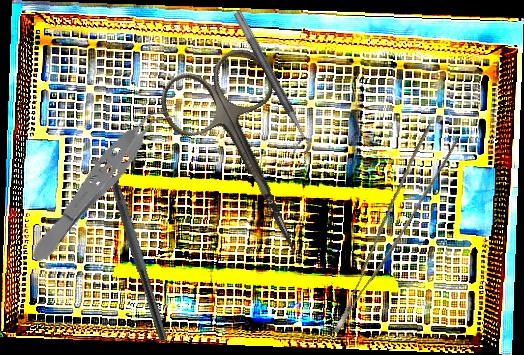Chopper: (95, 139, 182, 344)
Fixation Ring: (221, 10, 315, 159)
Iris Scissors: (151, 39, 346, 281)
Tissue Forceps: (300, 120, 469, 334), (23, 94, 178, 271)
